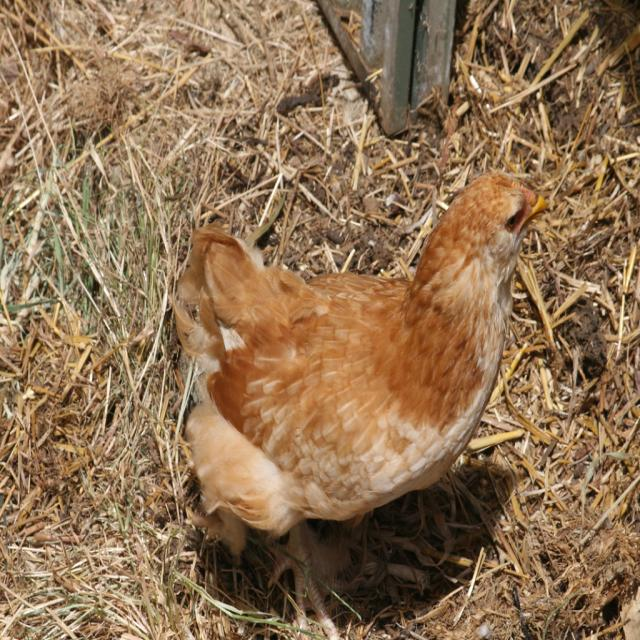Chicken: (170, 166, 548, 640)
